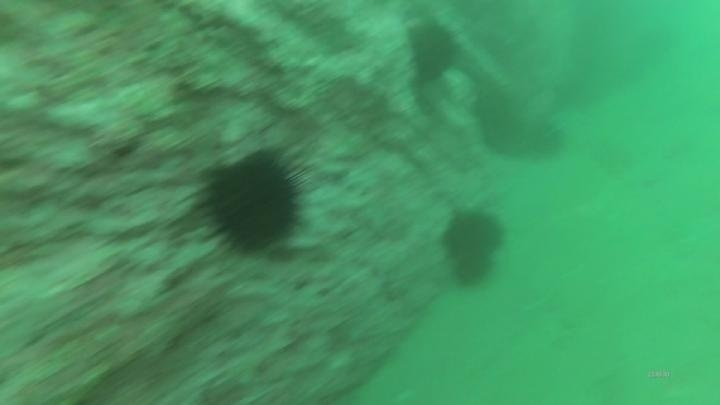echinus: (195, 144, 312, 259), (437, 203, 511, 293), (404, 18, 463, 86), (520, 114, 568, 163)
